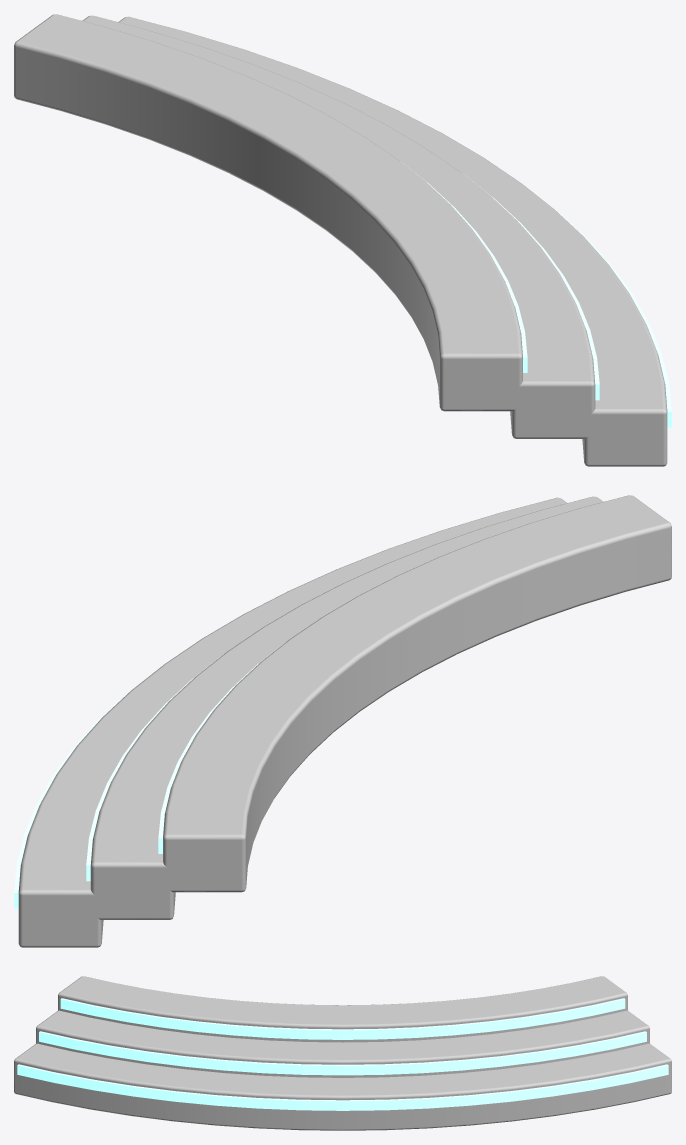
Rendered from Lobby_PROP_StepsCurved.fbx.
3 views of the same model, one above another, from view 1: azimuth 30°, elevation 25°; view 2: azimuth 150°, elevation 25°; view 3: azimuth 270°, elevation 25° (orthographic). The views are drawn at different scales.
Visible parts, largest first — view 1: Lobby_PROP_StepsCurved__Marble, Lobby_PROP_StepsCurved__NeonCyan; view 2: Lobby_PROP_StepsCurved__Marble, Lobby_PROP_StepsCurved__NeonCyan; view 3: Lobby_PROP_StepsCurved__Marble, Lobby_PROP_StepsCurved__NeonCyan.
Part boxes in pixels (left/top/right/bottom): Lobby_PROP_StepsCurved__Marble: left=14, top=14, right=667, bottom=466; Lobby_PROP_StepsCurved__NeonCyan: left=400, top=161, right=671, bottom=427; Lobby_PROP_StepsCurved__Marble: left=18, top=495, right=671, bottom=947; Lobby_PROP_StepsCurved__NeonCyan: left=14, top=642, right=285, bottom=908; Lobby_PROP_StepsCurved__Marble: left=14, top=976, right=671, bottom=1130; Lobby_PROP_StepsCurved__NeonCyan: left=17, top=998, right=668, bottom=1110.
Bounding box in the file's own units: 6.21 × 2.25 × 19.44.
